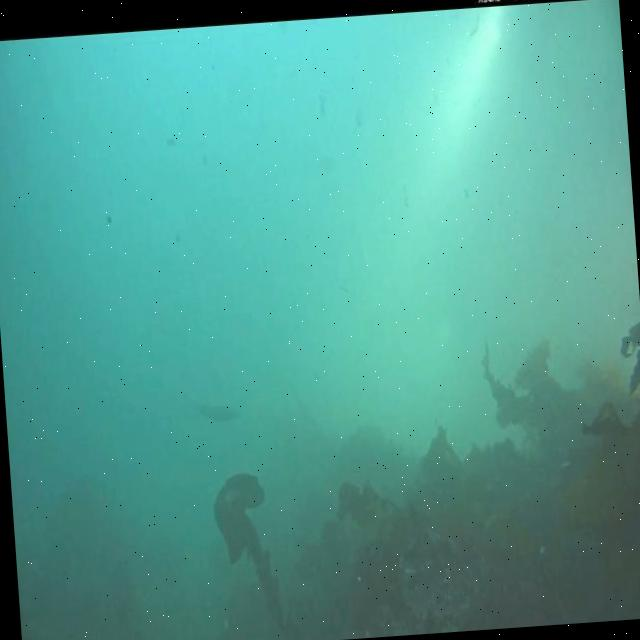fish: (198, 399, 242, 424)
